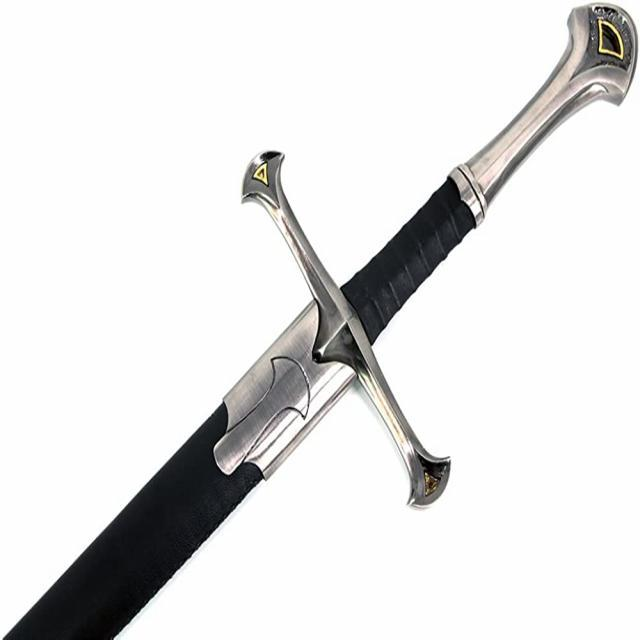sword: (1, 2, 640, 640)
